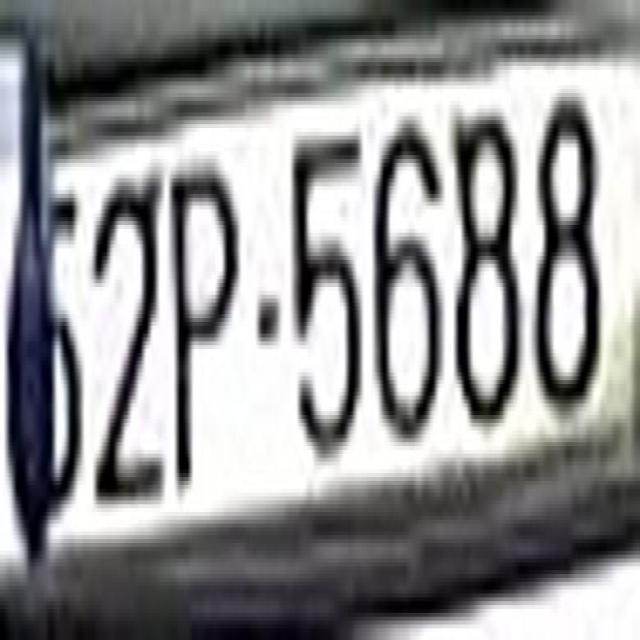2: (90, 128, 168, 532)
5: (288, 97, 364, 489), (40, 144, 88, 532)
6: (374, 78, 444, 454)
8: (447, 54, 524, 430), (530, 46, 600, 412)
P: (166, 132, 240, 492)
